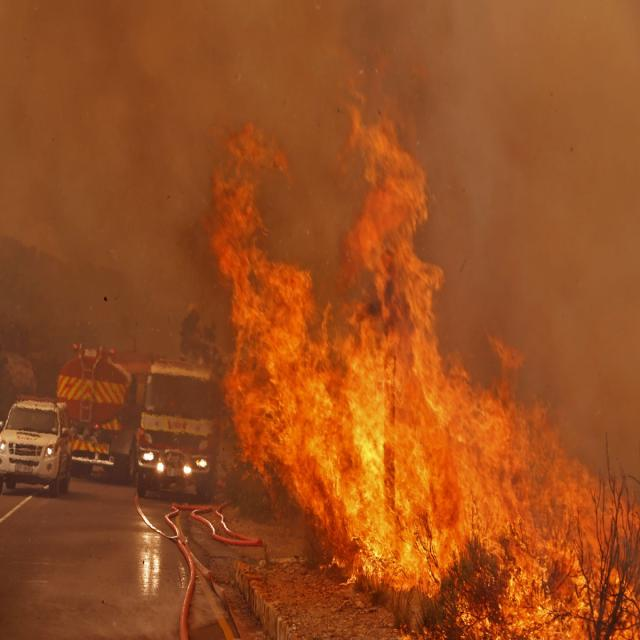Fire: (213, 177, 636, 640)
Smoke: (0, 0, 203, 355), (452, 10, 632, 399), (230, 2, 400, 216)
